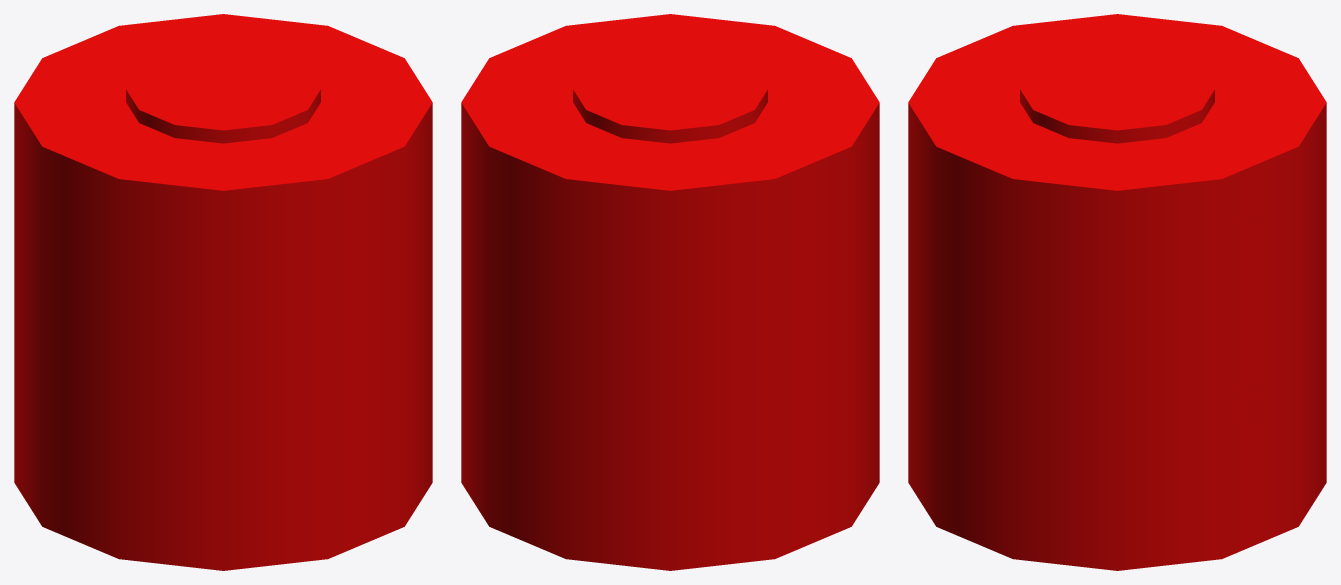
3 views of the same model, side by side, from view 1: azimuth 30°, elevation 25°; view 2: azimuth 150°, elevation 25°; view 3: azimuth 270°, elevation 25° (orthographic).
Parts seen in each view (by area): view 1: 148, 148_1; view 2: 148, 148_1; view 3: 148, 148_1.
Part boxes in pixels (x1,y1,x2,y2): 148: (14, 89, 432, 570); 148_1: (14, 14, 432, 190); 148: (461, 89, 879, 570); 148_1: (461, 14, 879, 190); 148: (908, 89, 1326, 570); 148_1: (908, 14, 1326, 190).
Size of the model in its own units: 1.47 by 1.53 by 1.47.
